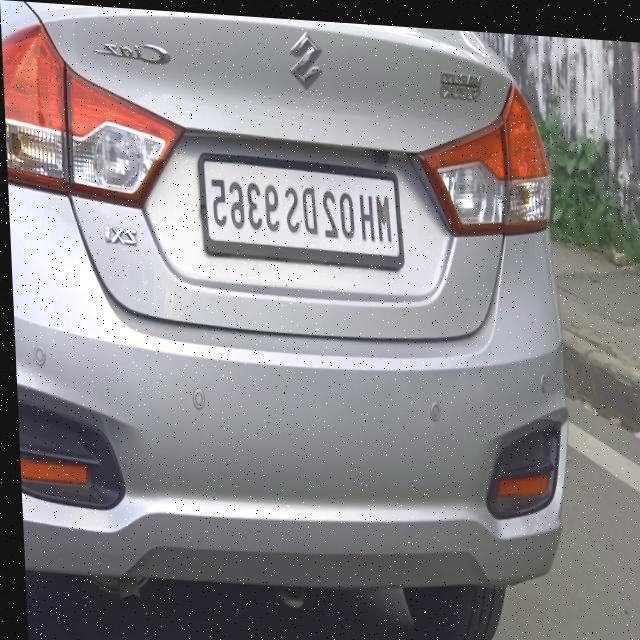plate: (188, 146, 408, 267)
